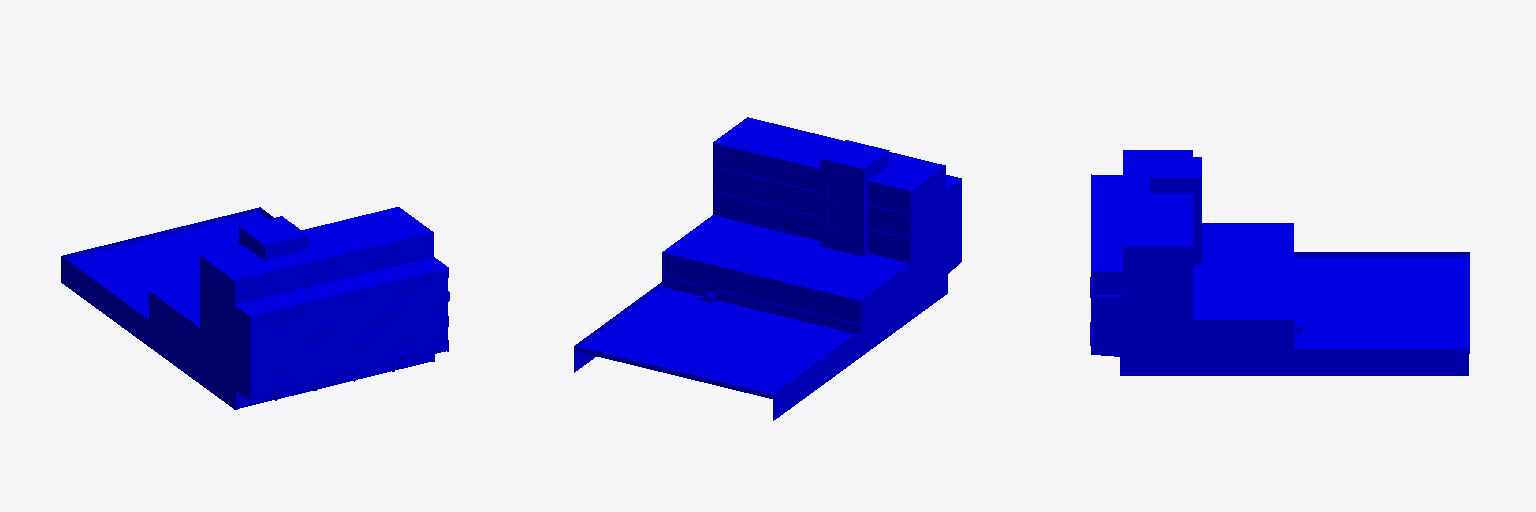
The model's file is uusikat_22.obj.
3 views of the same model, side by side, from view 1: azimuth 30°, elevation 25°; view 2: azimuth 150°, elevation 25°; view 3: azimuth 270°, elevation 25° (orthographic).
Visible parts, largest first — view 1: Object_1; view 2: Object_1; view 3: Object_1.
Boxes of the visible parts, x1=… form: Object_1: x1=61, y1=207, x2=449, y2=409; Object_1: x1=574, y1=117, x2=961, y2=420; Object_1: x1=1090, y1=150, x2=1469, y2=375.
Size of the model in its own units: 28.42 by 19.52 by 46.72.